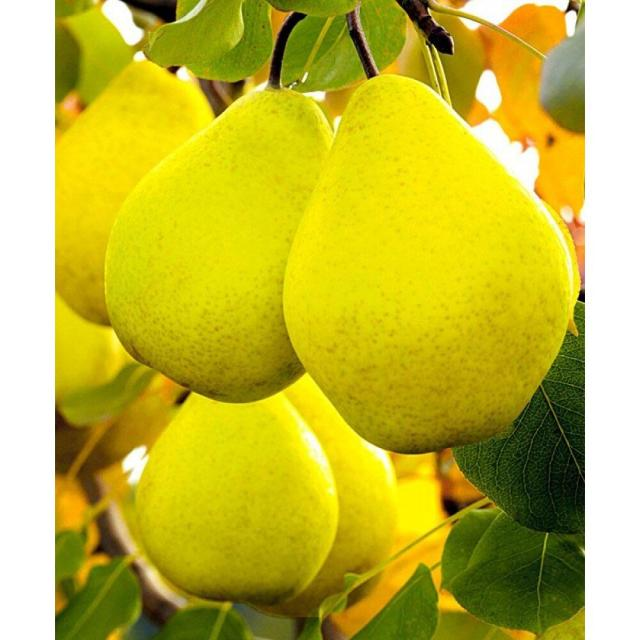pear: (282, 71, 577, 454)
